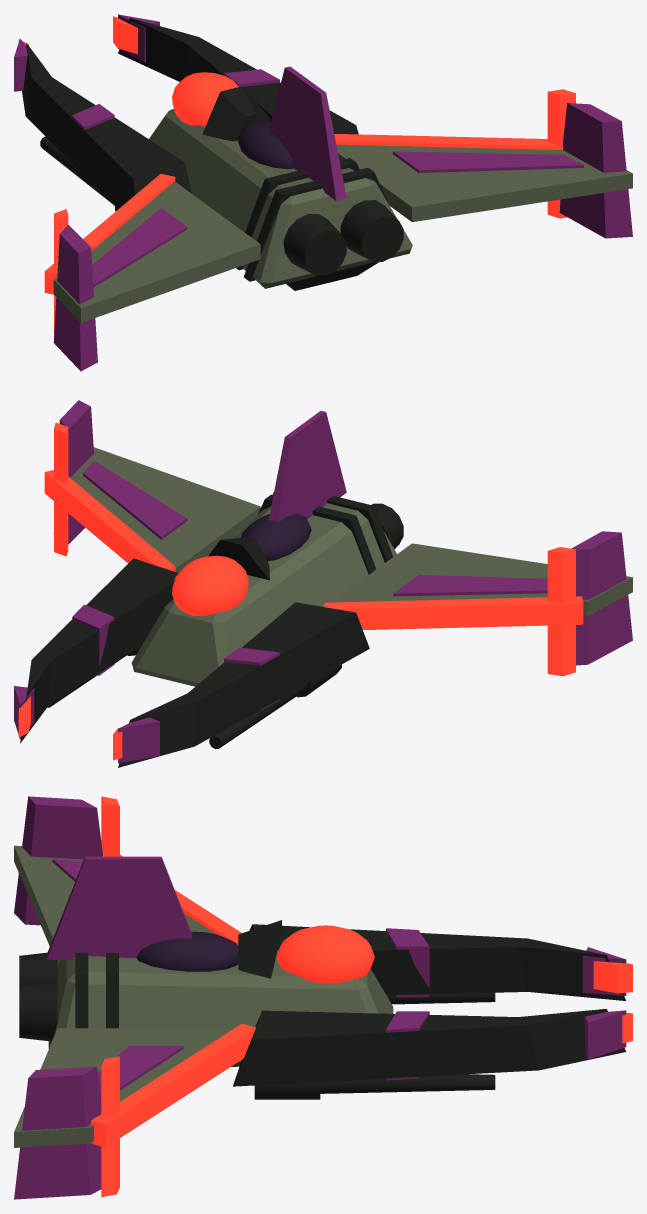
File: enemy_fighter.glb
The picture shows the model from 3 angles, top to bottom: view 1: azimuth 30°, elevation 25°; view 2: azimuth 150°, elevation 25°; view 3: azimuth 270°, elevation 25°; orthographic projection. The views are drawn at different scales.
Visible parts, largest first — view 1: Wing, Prong, Body.005, WingTip, Nozzle, WingStripe, Fin, WingLight, Eye, Crest, TipLight, Canopy (+7 smaller); view 2: Prong, Wing, Body.005, WingLight, WingTip, WingStripe, Fin, TipLight, Eye, Canopy, ProngTip, ProngBand (+6 smaller); view 3: Prong, Body.005, WingTip, Fin, Wing, WingLight, Eye, Gun, Nozzle, TipLight, Canopy, ProngTip (+7 smaller).
Part boxes in pixels (<box>): Wing: <box>53,144,632,322</box>; Prong: <box>22,18,358,208</box>; Body.005: <box>149,108,412,288</box>; WingTip: <box>53,103,632,371</box>; Nozzle: <box>283,200,403,275</box>; WingStripe: <box>92,151,583,286</box>; Fin: <box>268,66,346,200</box>; WingLight: <box>44,134,563,294</box>; Eye: <box>172,72,238,126</box>; Crest: <box>202,86,269,141</box>; TipLight: <box>54,89,575,335</box>; Canopy: <box>237,121,293,169</box>; Prong: <box>20,558,369,767</box>; Wing: <box>70,447,632,616</box>; Body.005: <box>131,503,396,686</box>; WingLight: <box>44,470,583,629</box>; WingTip: <box>59,400,632,665</box>; WingStripe: <box>83,460,547,596</box>; Fin: <box>268,410,346,522</box>; TipLight: <box>54,422,575,676</box>; Eye: <box>172,555,248,616</box>; Canopy: <box>241,514,311,561</box>; ProngTip: <box>14,686,159,763</box>; ProngBand: <box>72,604,279,710</box>; Prong: <box>233,924,626,1086</box>; Body.005: <box>48,950,393,1066</box>; WingTip: <box>14,796,102,1199</box>; Fin: <box>46,856,191,959</box>; Wing: <box>14,845,233,1147</box>; WingLight: <box>91,854,255,1147</box>; Eye: <box>276,925,374,983</box>; Gun: <box>320,992,495,1093</box>; Nozzle: <box>19,952,57,1041</box>; TipLight: <box>101,796,119,1196</box>; Canopy: <box>136,931,238,971</box>; ProngTip: <box>582,947,626,1059</box>.
Bounding box in the file's own units: 6.2 × 2.06 × 5.66.
